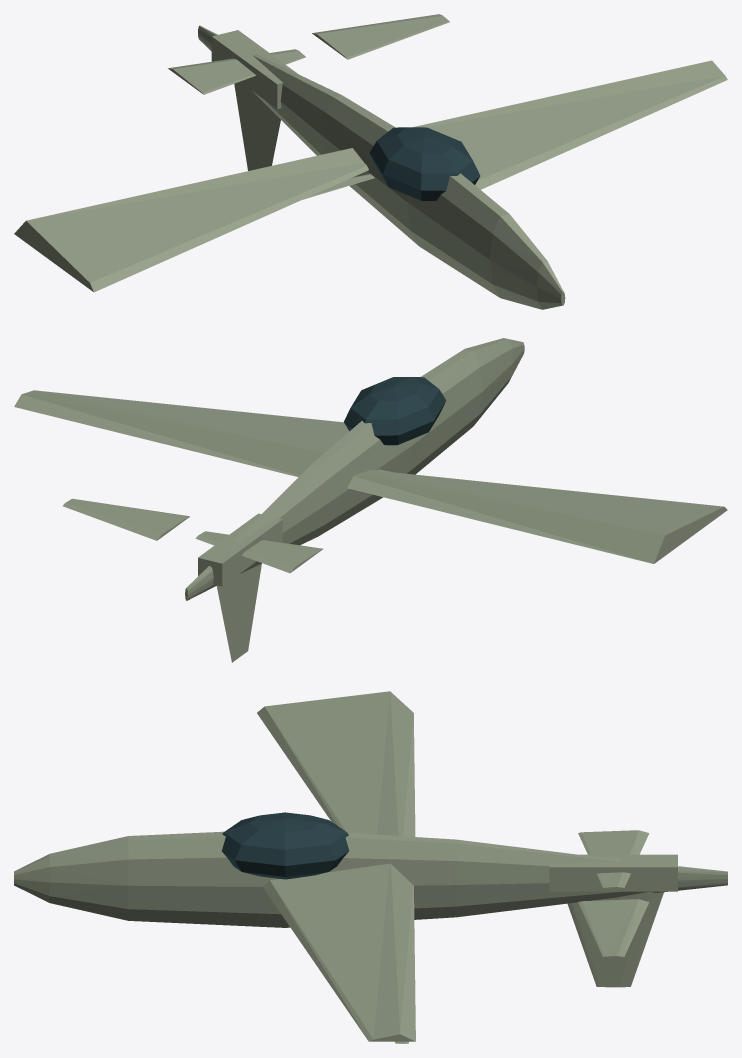
The picture shows the model from 3 angles, top to bottom: view 1: azimuth 30°, elevation 25°; view 2: azimuth 150°, elevation 25°; view 3: azimuth 270°, elevation 25°; orthographic projection. The views are drawn at different scales.
Visible parts, largest first — view 1: Fuselage, Wing_L, Wing_R, Cockpit, Elevator_R, TailBoom, Rudder, Elevator_L; view 2: Fuselage, Wing_L, Wing_R, Cockpit, Rudder, TailBoom, Elevator_R, Elevator_L; view 3: Fuselage, Wing_R, Wing_L, Cockpit, TailBoom, Rudder, Elevator_R, Elevator_L.
Part boxes in pixels (x1,y1,x2,y2): Fuselage: (198, 25, 565, 309); Wing_L: (14, 148, 368, 292); Wing_R: (413, 60, 727, 189); Cockpit: (369, 127, 480, 201); Elevator_R: (312, 14, 449, 59); TailBoom: (211, 30, 297, 108); Rudder: (234, 82, 280, 170); Elevator_L: (168, 49, 305, 94); Fuselage: (185, 338, 524, 600); Wing_L: (347, 470, 727, 563); Wing_R: (14, 390, 349, 477); Cockpit: (344, 377, 446, 445); Rudder: (216, 563, 261, 662); TailBoom: (198, 513, 282, 586); Elevator_R: (62, 498, 189, 540); Elevator_L: (195, 531, 323, 573); Fuselage: (14, 831, 727, 927); Wing_R: (262, 863, 415, 1041); Wing_L: (257, 691, 415, 836); Cockpit: (222, 812, 349, 879); TailBoom: (549, 854, 677, 891); Rudder: (567, 892, 663, 987); Elevator_R: (578, 899, 649, 956); Elevator_L: (578, 830, 649, 887).
Size of the model in its own units: 10.75 by 2.54 by 9.8.
